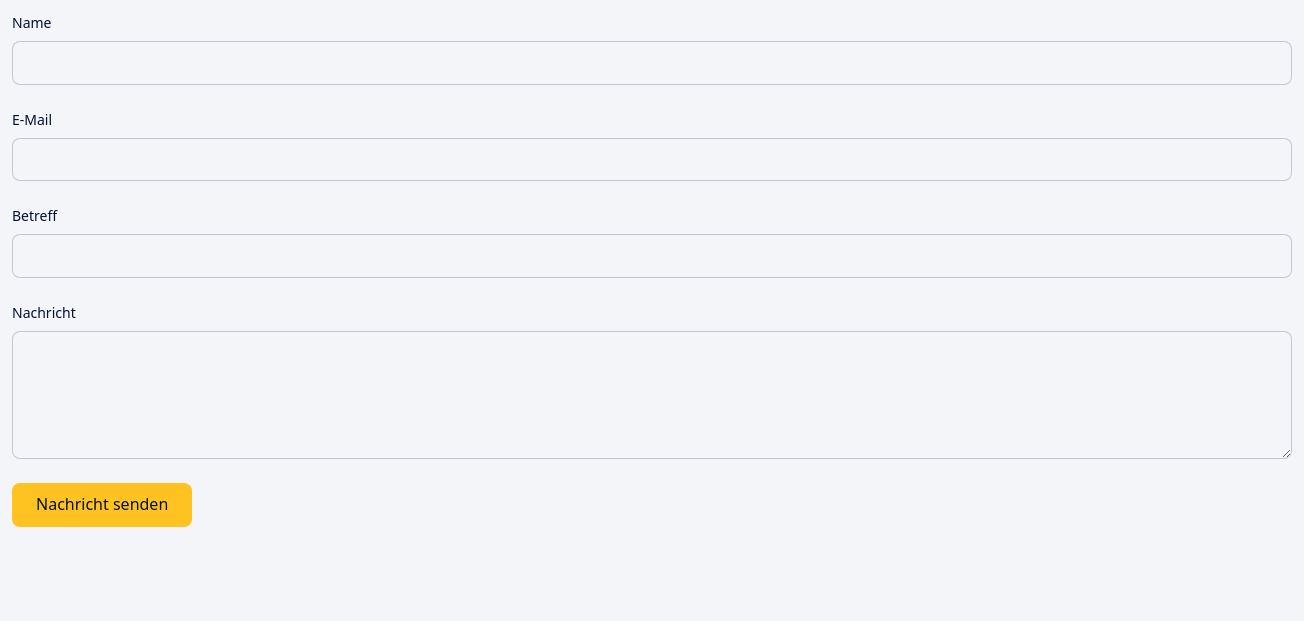
Scenario: ContactForm › shows an error and keeps the form filled in when the request fails
Type "Jane Doe" into the field labelled "Name" at (652,63), box x1=12 y1=41 x2=1292 y2=85
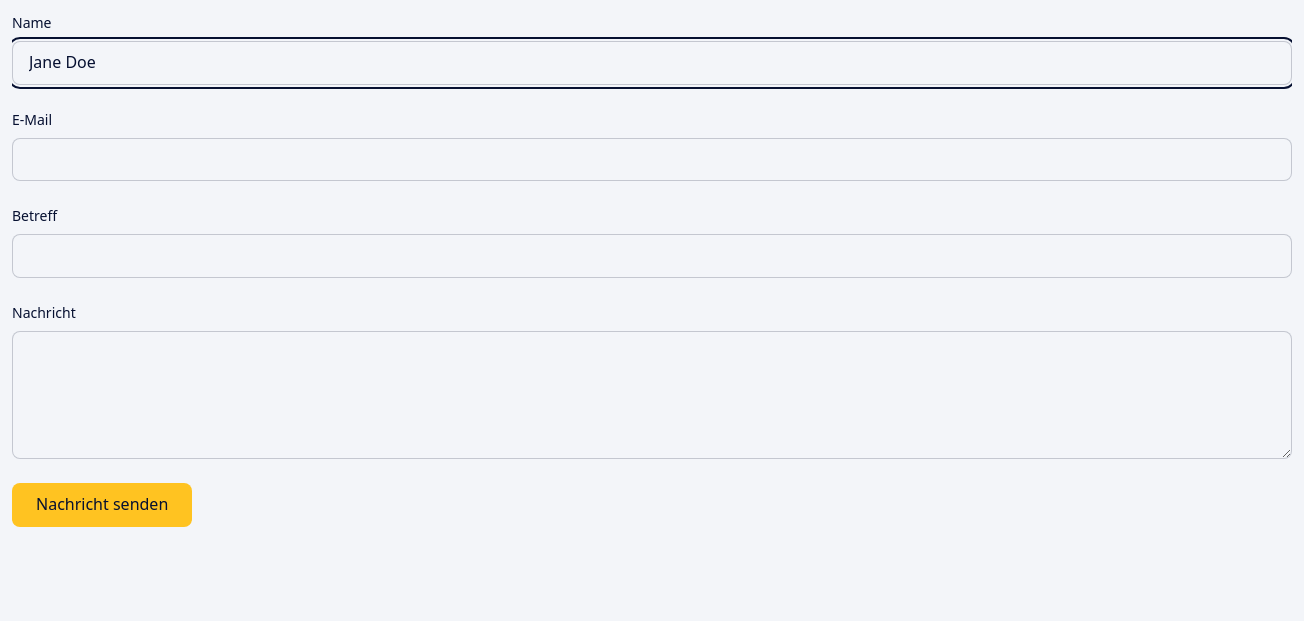
Type "jane@example.com" into the field labelled "E-Mail" at (652,159), box x1=12 y1=138 x2=1292 y2=181
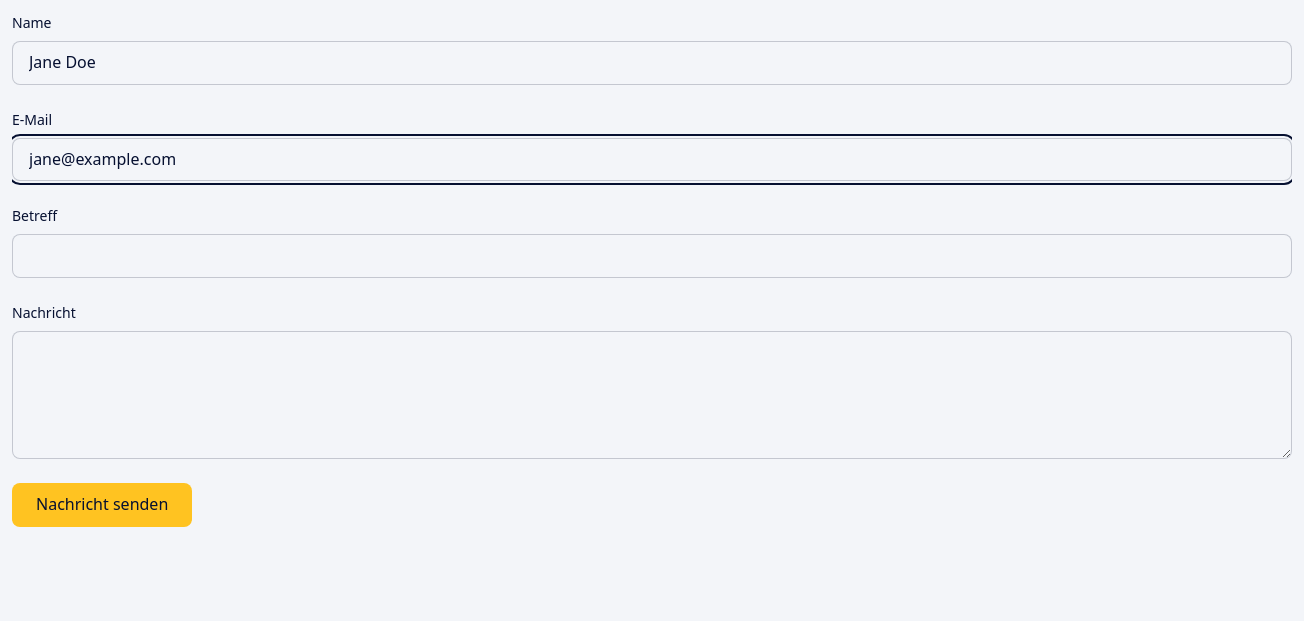
Type "Partnerschaft" into the field labelled "Betreff" at (652,256), box x1=12 y1=234 x2=1292 y2=278
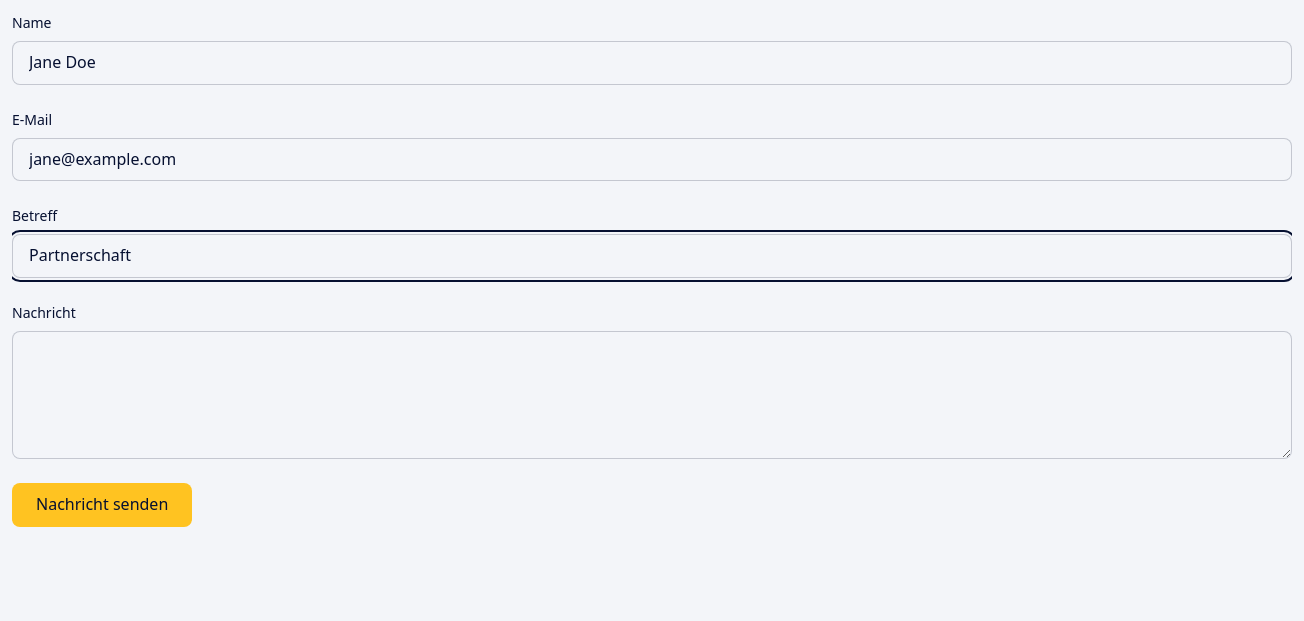
Type "Wir würden gerne mit euch sprechen." into the text box labelled "Nachricht" at (652,395), box x1=12 y1=331 x2=1292 y2=459
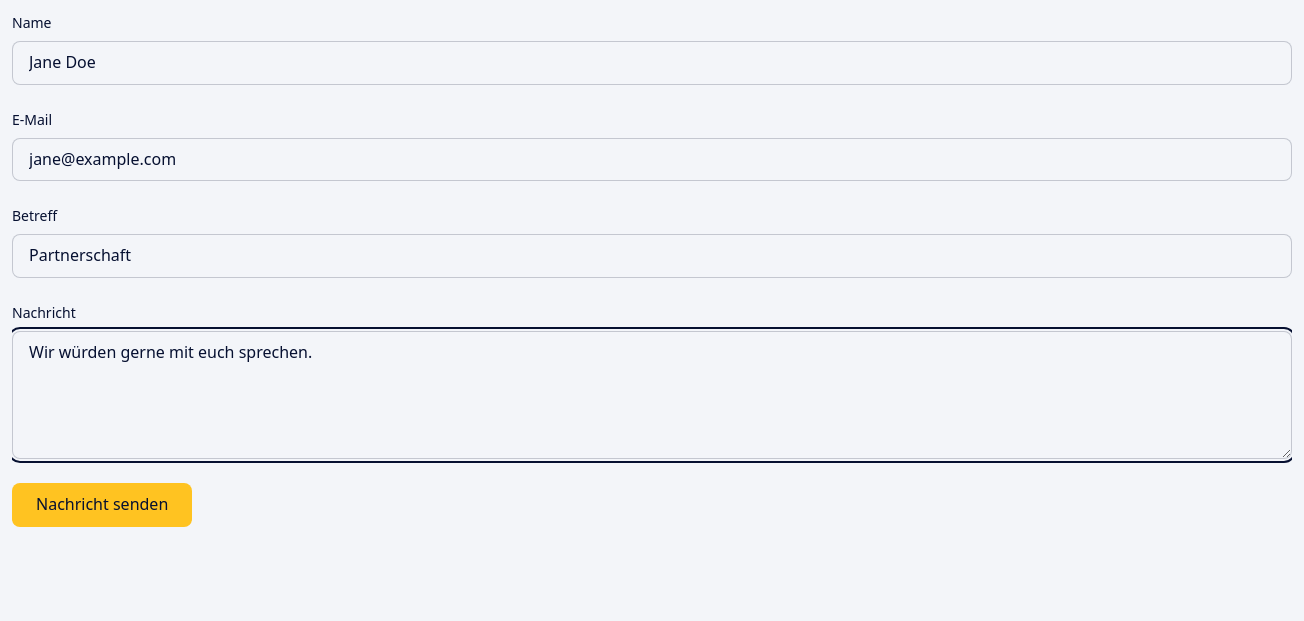
Click the button "Nachricht senden" at (102,505), box x1=12 y1=483 x2=192 y2=527
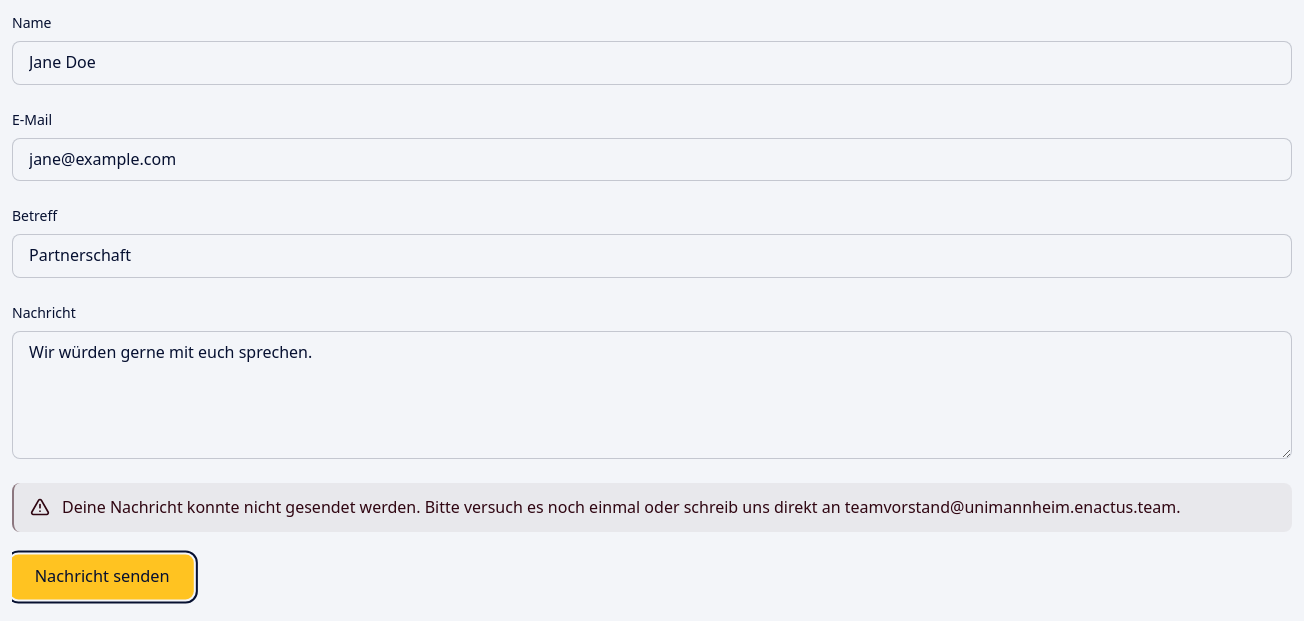
Expected: the message shows "teamvorstand@unimannheim.enactus.team", x1=62 y1=496 x2=1180 y2=518
